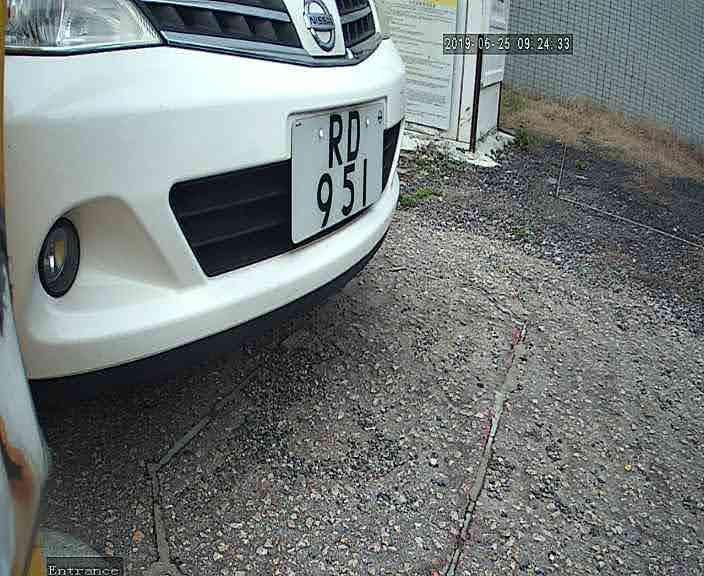privatecar: (1, 1, 431, 385)
